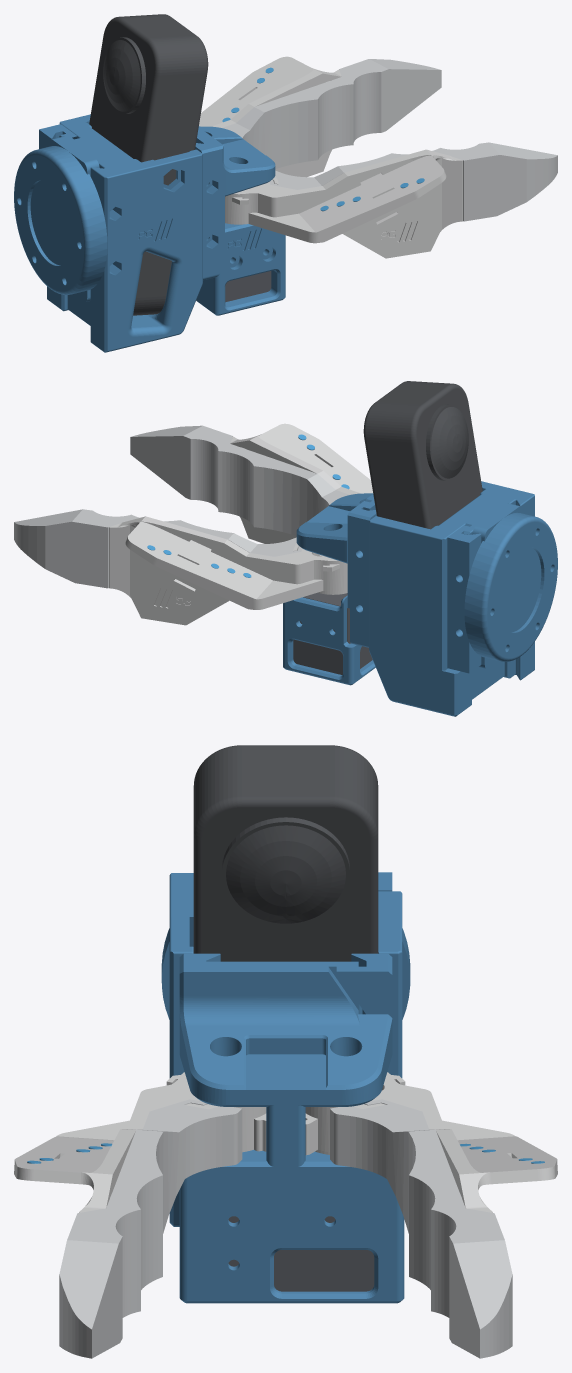
Rendered from chop-umi_openarm.glb.
3 renders of one model, top to bottom at view 1: azimuth 30°, elevation 25°; view 2: azimuth 150°, elevation 25°; view 3: azimuth 270°, elevation 25°, orthographic. The views are drawn at different scales.
Visible parts, largest first — view 1: x5_frame, insta360_x5_envelope, jaw_right, tip_tpu_left, openarm_adapter, chopstick_base_sa, tip_tpu_right, jaw_left_sa, servo_envelope, x5_clip_b; view 2: x5_frame, jaw_left_sa, insta360_x5_envelope, tip_tpu_right, openarm_adapter, chopstick_base_sa, tip_tpu_left, jaw_right, x5_clip_b, chopstick_clip_sa, servo_envelope; view 3: chopstick_base_sa, insta360_x5_envelope, tip_tpu_right, tip_tpu_left, jaw_left_sa, jaw_right, x5_frame, servo_envelope, chopstick_clip_sa, openarm_adapter.
Boxes of the visible parts, left/top/right/bottom form: x5_frame: left=47, top=114, right=202, bottom=352; insta360_x5_envelope: left=89, top=14, right=208, bottom=315; jaw_right: left=225, top=149, right=462, bottom=258; tip_tpu_left: left=222, top=59, right=441, bottom=168; openarm_adapter: left=14, top=136, right=107, bottom=302; chopstick_base_sa: left=195, top=126, right=285, bottom=315; tip_tpu_right: left=269, top=142, right=557, bottom=221; jaw_left_sa: left=199, top=56, right=341, bottom=177; servo_envelope: left=225, top=271, right=271, bottom=302; x5_clip_b: left=39, top=124, right=77, bottom=148; x5_frame: left=369, top=481, right=534, bottom=716; jaw_left_sa: left=109, top=516, right=347, bottom=625; insta360_x5_envelope: left=363, top=381, right=482, bottom=529; tip_tpu_right: left=130, top=425, right=349, bottom=535; openarm_adapter: left=464, top=503, right=557, bottom=668; chopstick_base_sa: left=283, top=493, right=375, bottom=685; tip_tpu_left: left=14, top=509, right=302, bottom=588; jaw_right: left=230, top=423, right=372, bottom=543; x5_clip_b: left=447, top=525, right=481, bottom=673; chopstick_clip_sa: left=347, top=501, right=376, bottom=647; servo_envelope: left=293, top=592, right=372, bottom=674; chopstick_base_sa: left=179, top=953, right=404, bottom=1303; insta360_x5_envelope: left=193, top=745, right=378, bottom=961; tip_tpu_right: left=59, top=1099, right=242, bottom=1358; tip_tpu_left: left=330, top=1099, right=512, bottom=1358; jaw_left_sa: left=305, top=1072, right=557, bottom=1212; jaw_right: left=14, top=1072, right=266, bottom=1212; x5_frame: left=169, top=873, right=402, bottom=1226; servo_envelope: left=228, top=1216, right=374, bottom=1291; chopstick_clip_sa: left=336, top=953, right=392, bottom=1074; openarm_adapter: left=161, top=928, right=410, bottom=1019.
Bounding box in the file's own units: 0.2165 × 0.1302 × 0.1357.
